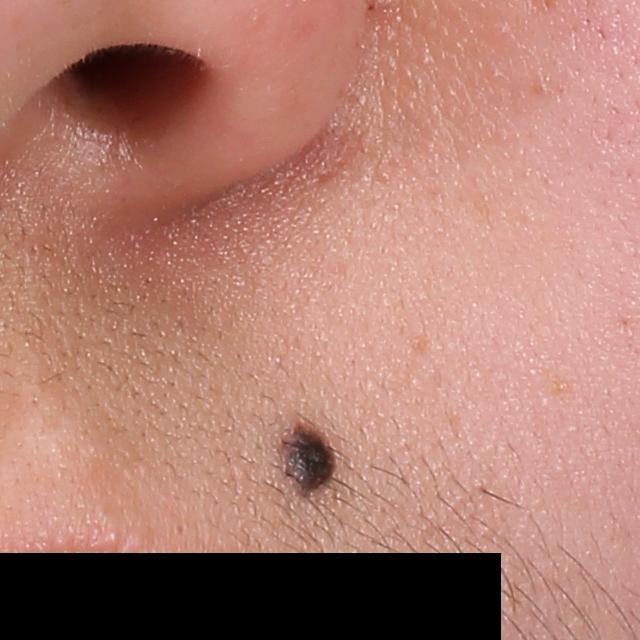nevus: (282, 415, 337, 505)
